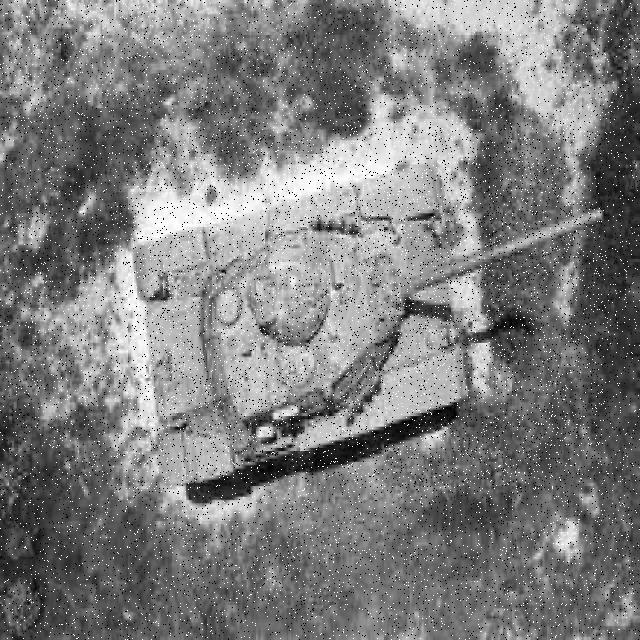MIL_MBT: (132, 129, 606, 488)
